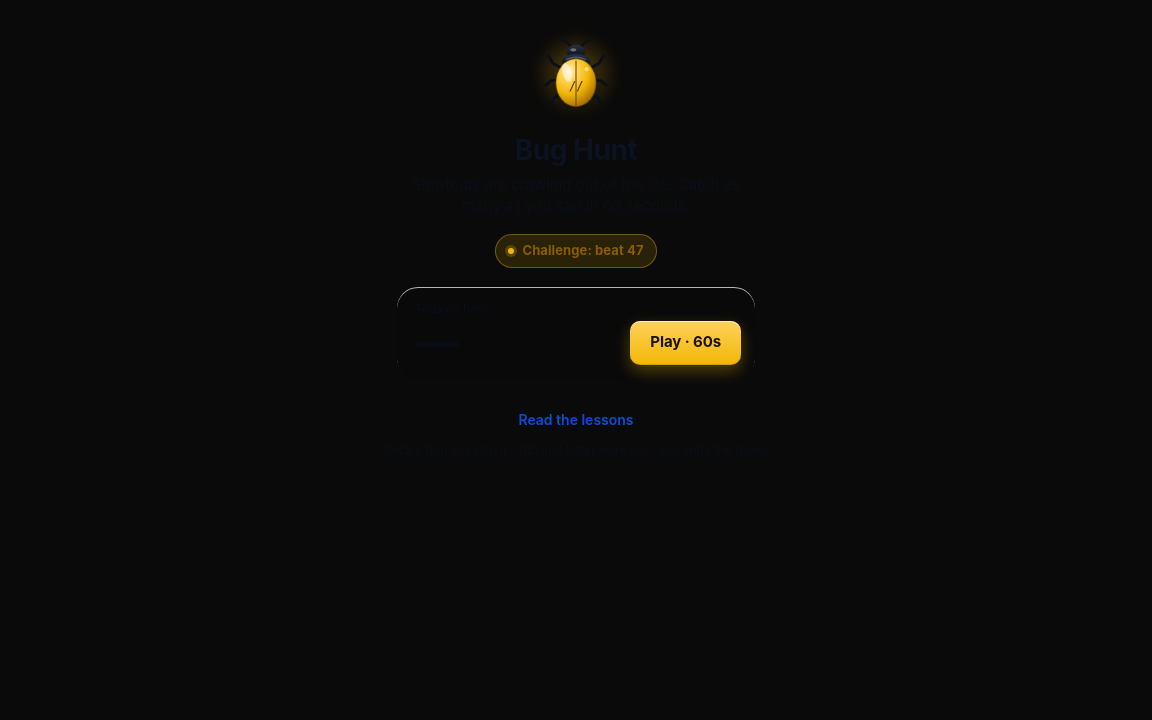
Test: BugHuntGame › start card: best, challenge, play and lessons
Expected: the text "Challenge: beat 47" is shown, 495,234 -> 656,268
Expected: the button "Play · 60s" is shown, 630,320 -> 741,364
Click the button "Read the lessons" at (576,420), box 514,398 -> 638,442
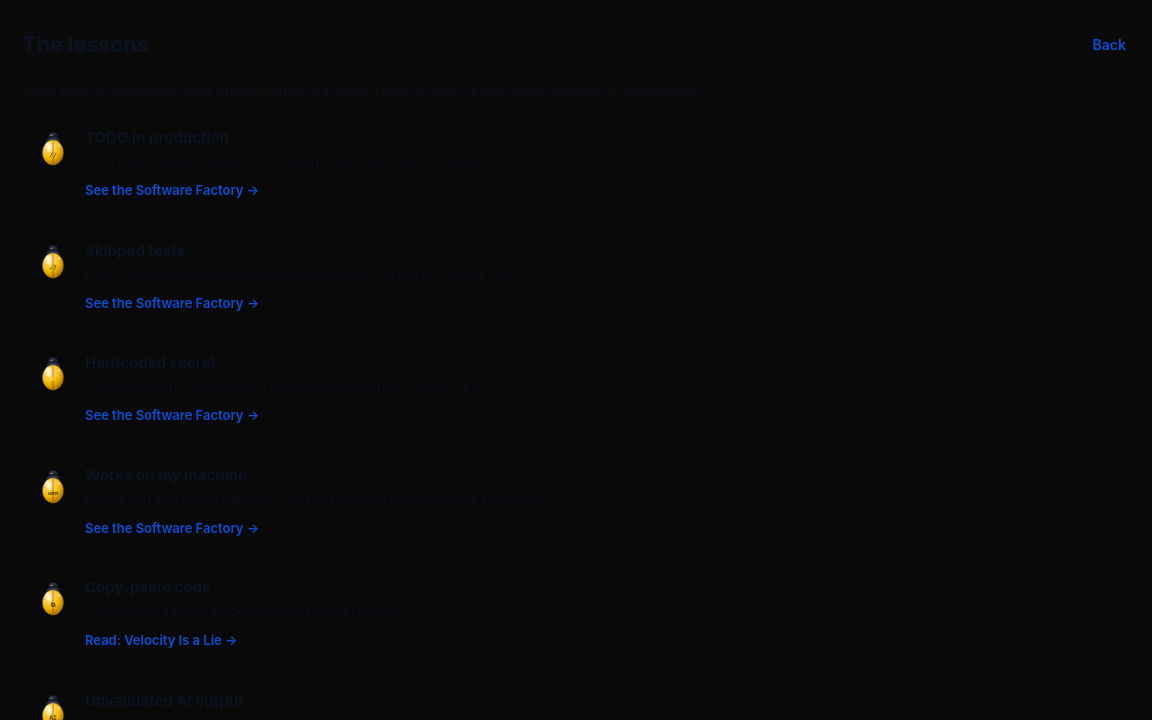
Now the link to "/?app=builds&item=software-factory" is shown, box 85,182 -> 259,198
